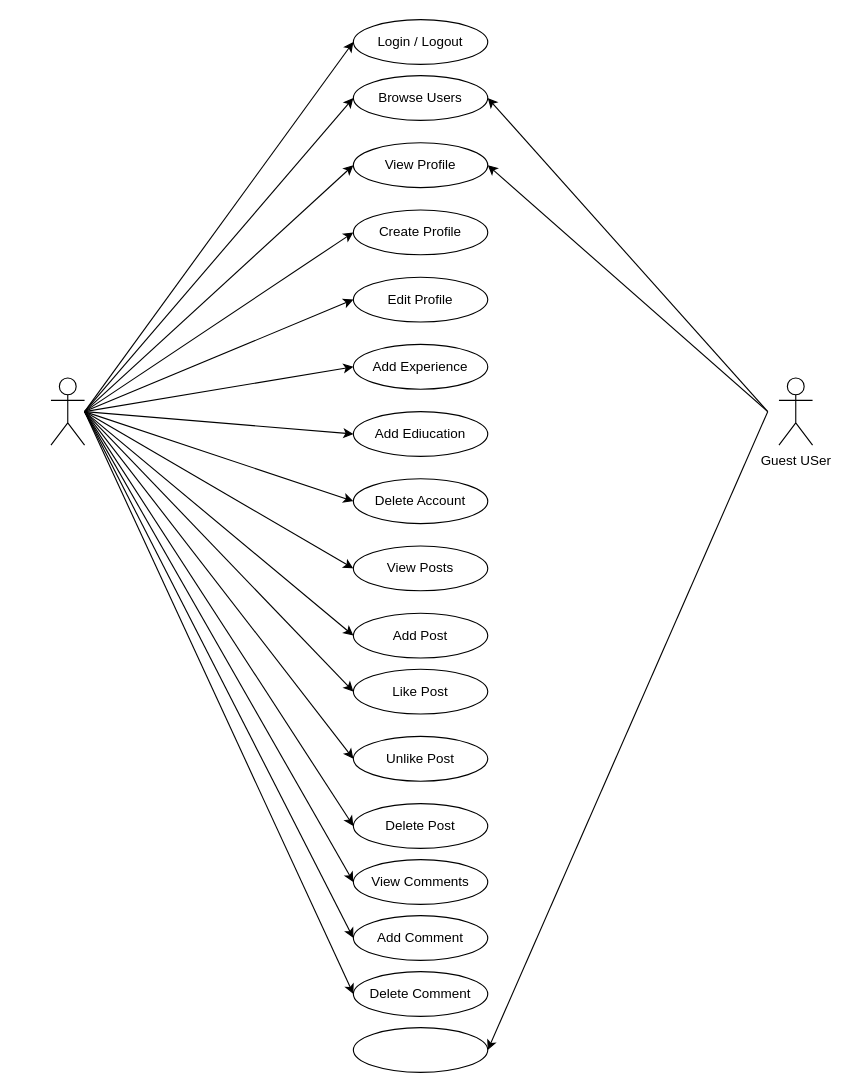
Some shapes in this 850 by 1092 pixel diagram are drawn without their labels. The centre of each missing label's shape, as x and y in pixels:
"Register" belongs at point 420,1049.
"Registered User" belongs at point 67,411.
